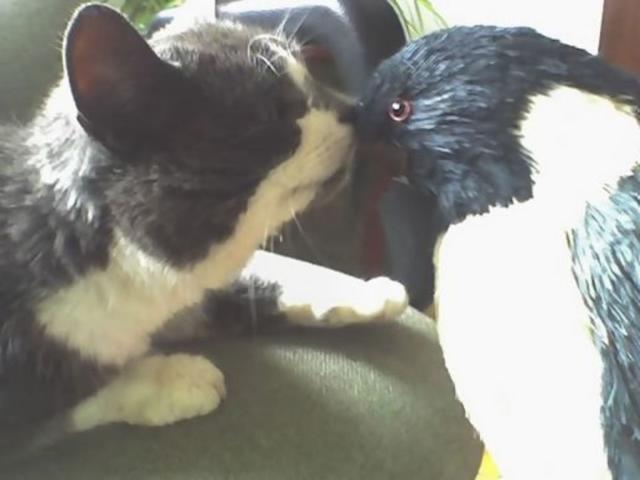Cat: (0, 2, 409, 471)
